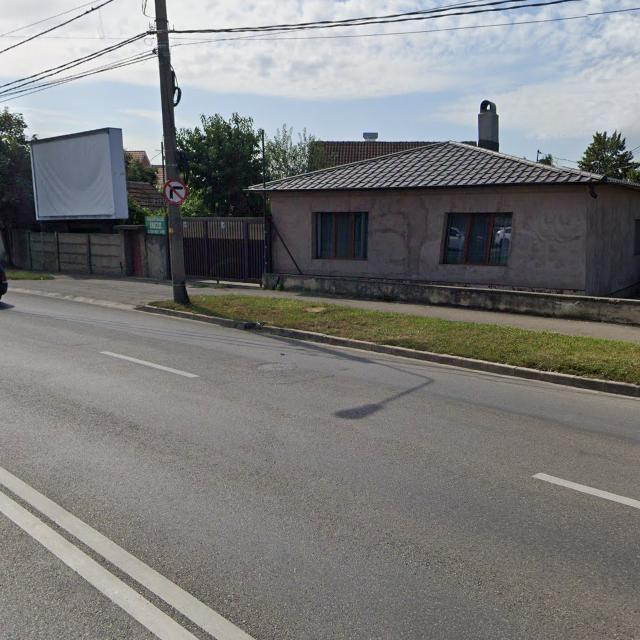forb_right: (164, 178, 186, 204)
